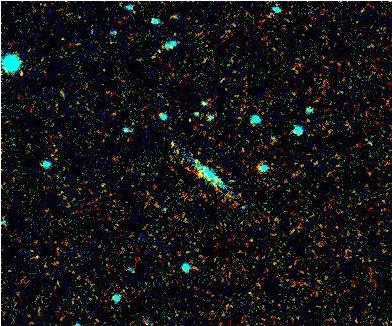star: (185, 160, 215, 190)
